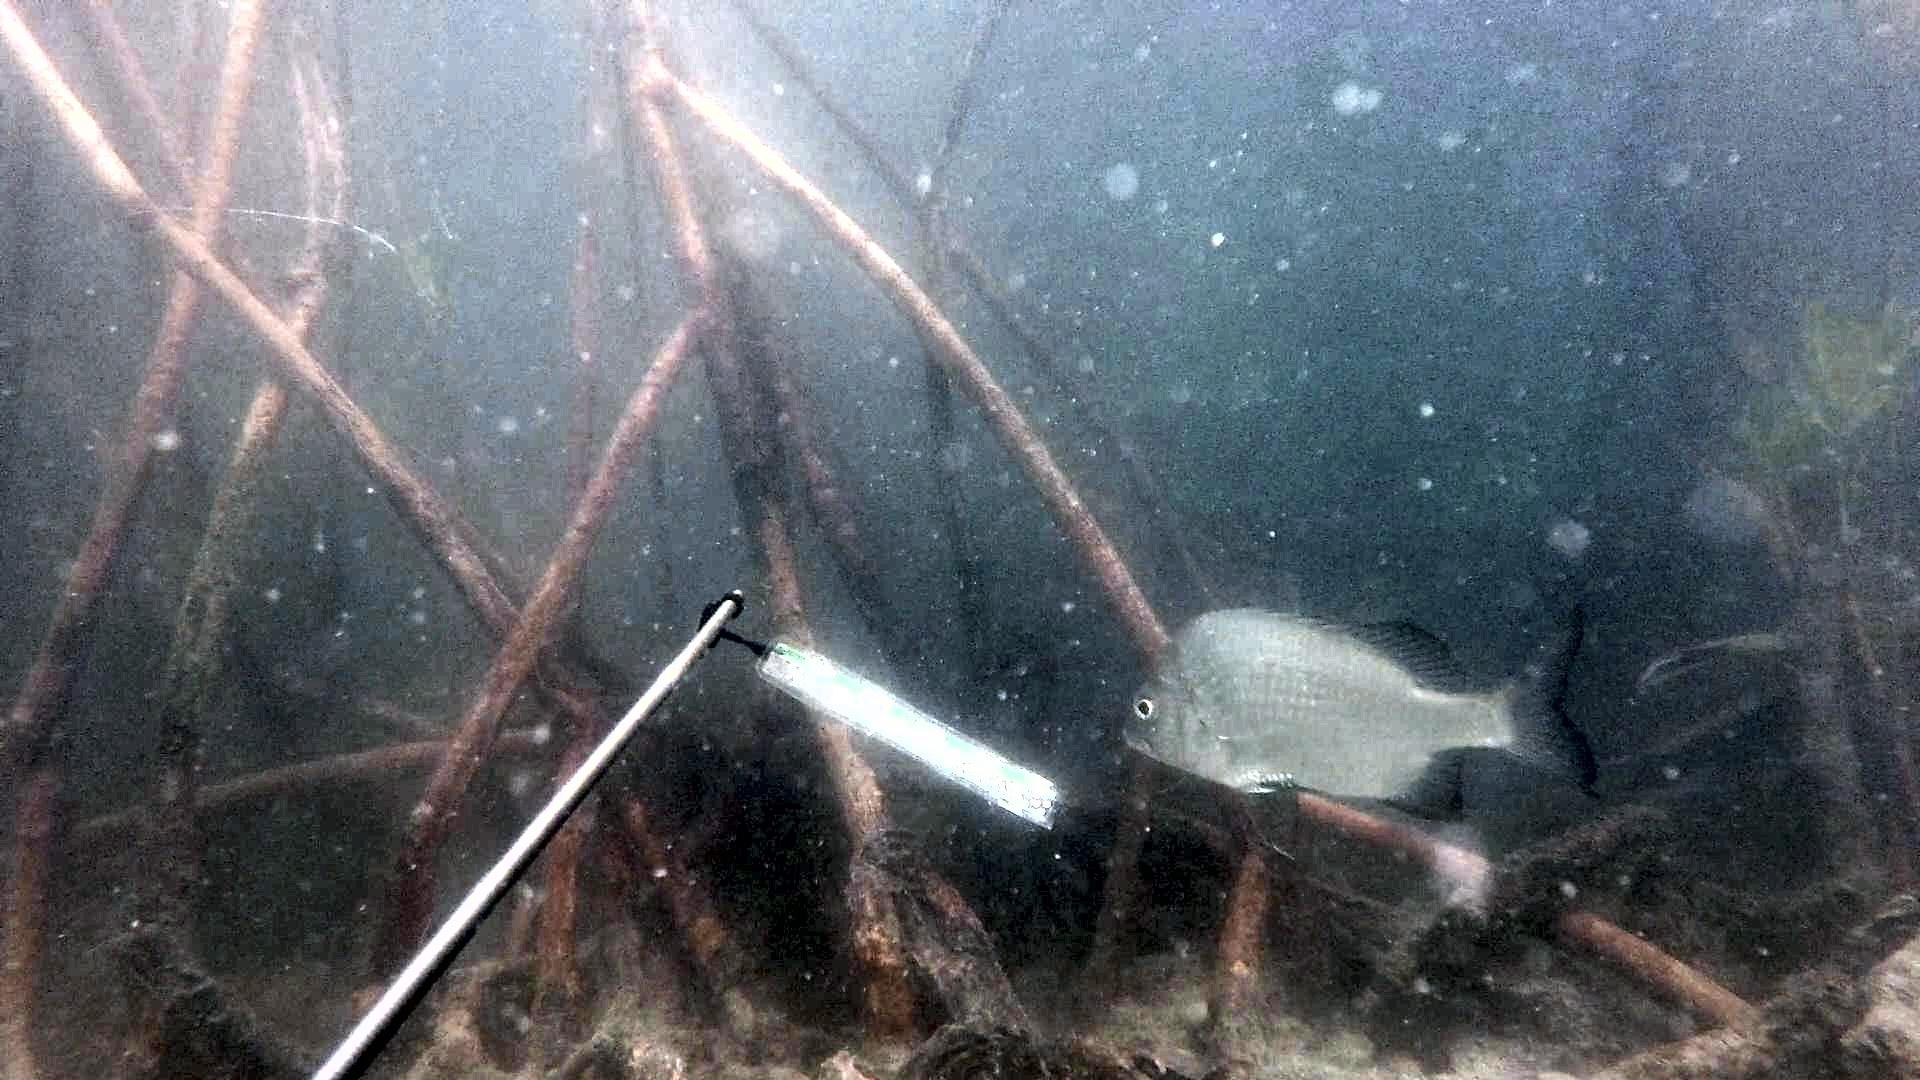acanthopagrus palmaris: (1117, 594, 1603, 870)
